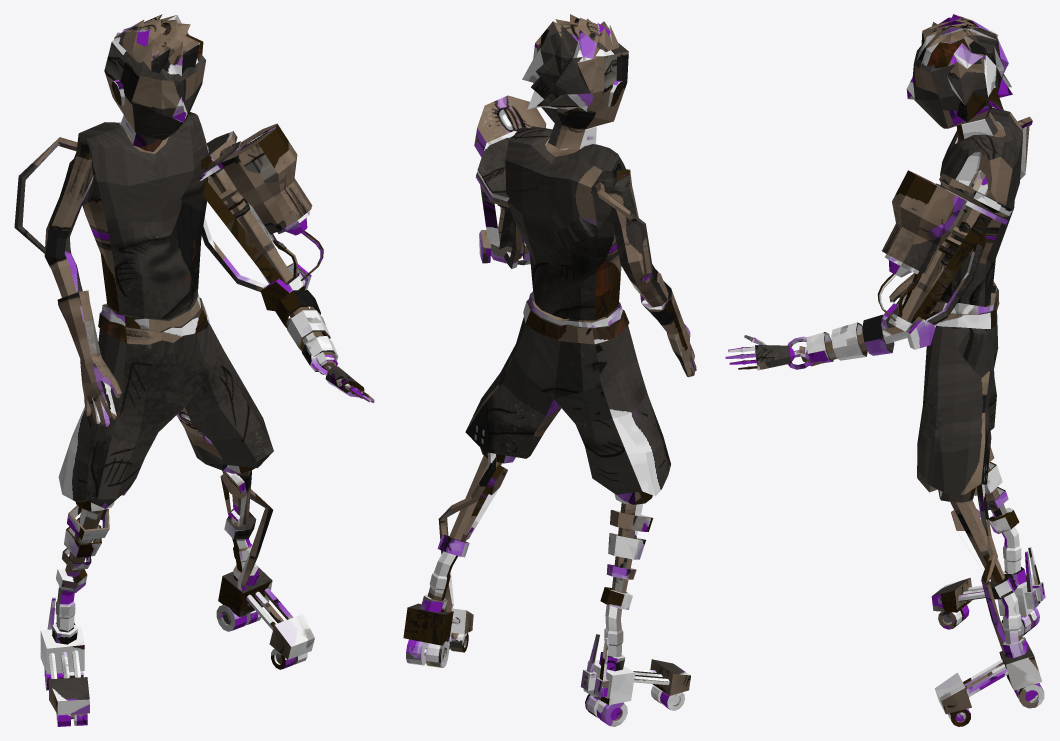
Rendered from CyborgFINALAnimation_000035.obj.
3 views of the same model, side by side, from view 1: azimuth 30°, elevation 25°; view 2: azimuth 150°, elevation 25°; view 3: azimuth 270°, elevation 25° (orthographic). The views are drawn at different scales.
Parts seen in each view (by area): view 1: CyborgMesh_Cube.002; view 2: CyborgMesh_Cube.002; view 3: CyborgMesh_Cube.002.
Boxes of the visible parts, x1,y1,x2,y2 form: CyborgMesh_Cube.002: [14, 14, 374, 726]; CyborgMesh_Cube.002: [403, 14, 696, 726]; CyborgMesh_Cube.002: [725, 14, 1045, 726].
Size of the model in its own units: 3.82 by 9.68 by 4.35.
